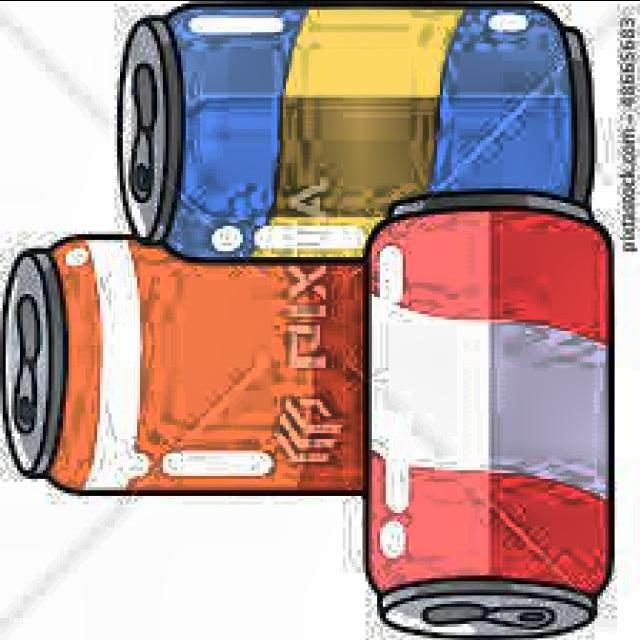litter: (105, 0, 600, 268), (352, 185, 617, 640), (0, 230, 383, 507)
